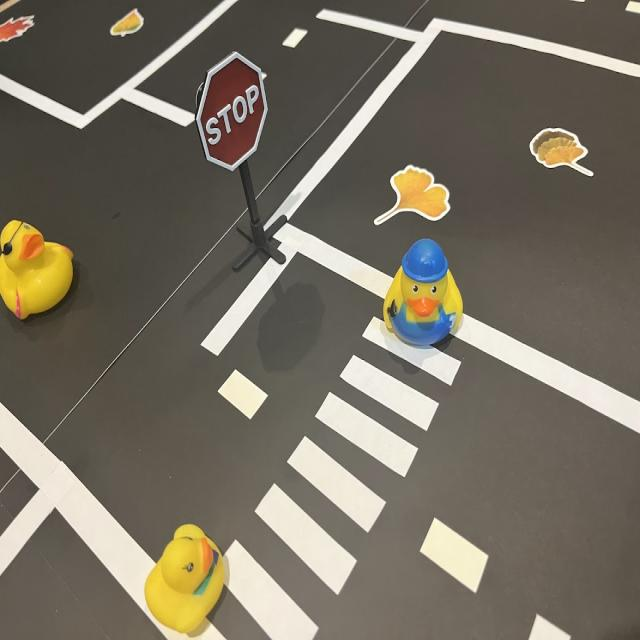duck_regular: (142, 517, 232, 639)
duck_specialty: (382, 236, 466, 352), (1, 211, 77, 323)
road_crosswalk: (211, 306, 470, 640)
sign_stop: (194, 51, 268, 170)
